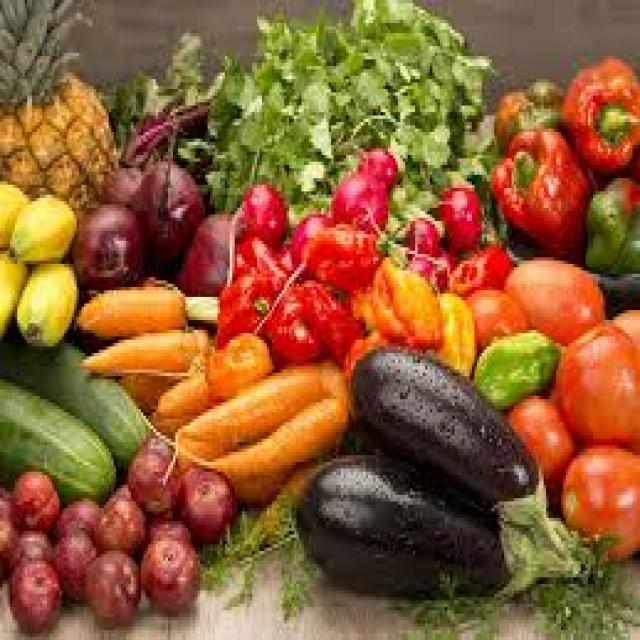organic waste: (346, 340, 595, 554), (302, 455, 600, 594), (205, 10, 395, 214), (376, 0, 494, 241), (158, 383, 351, 475), (0, 333, 143, 455), (0, 70, 116, 214), (171, 350, 336, 445), (0, 376, 114, 508), (99, 26, 205, 142), (489, 122, 586, 247), (554, 317, 638, 442), (198, 505, 302, 600), (558, 52, 638, 172), (561, 439, 637, 564), (531, 548, 638, 636), (0, 0, 91, 99), (504, 254, 605, 343), (131, 142, 203, 257), (74, 270, 188, 330), (235, 449, 306, 544), (74, 323, 208, 373), (70, 198, 144, 287), (371, 247, 440, 340), (474, 323, 556, 399), (294, 271, 358, 366), (304, 214, 378, 287), (272, 495, 316, 617), (173, 204, 235, 290), (410, 580, 504, 636), (487, 79, 566, 145), (202, 326, 276, 396), (119, 92, 210, 148), (12, 260, 74, 336), (586, 175, 638, 264), (82, 538, 138, 620), (141, 538, 200, 614), (8, 191, 72, 261), (173, 462, 235, 534), (465, 280, 531, 346), (123, 436, 178, 514), (432, 287, 480, 376), (329, 165, 383, 244), (212, 267, 272, 330), (89, 485, 143, 554), (343, 284, 408, 340), (7, 554, 62, 620), (442, 240, 509, 294), (237, 175, 287, 244), (257, 306, 319, 359), (435, 185, 479, 257), (47, 528, 96, 590), (153, 363, 210, 416), (10, 462, 57, 524), (586, 254, 638, 310), (225, 465, 296, 505), (118, 363, 170, 406), (289, 204, 326, 264), (0, 244, 22, 343), (49, 495, 104, 534), (336, 323, 383, 366), (267, 267, 306, 317), (0, 175, 27, 244), (410, 247, 455, 287), (403, 215, 442, 258), (232, 228, 272, 267), (180, 287, 222, 323), (358, 142, 393, 185), (0, 511, 20, 581), (606, 297, 638, 340), (143, 508, 188, 538), (8, 528, 44, 561), (279, 241, 299, 277), (620, 152, 638, 184)
